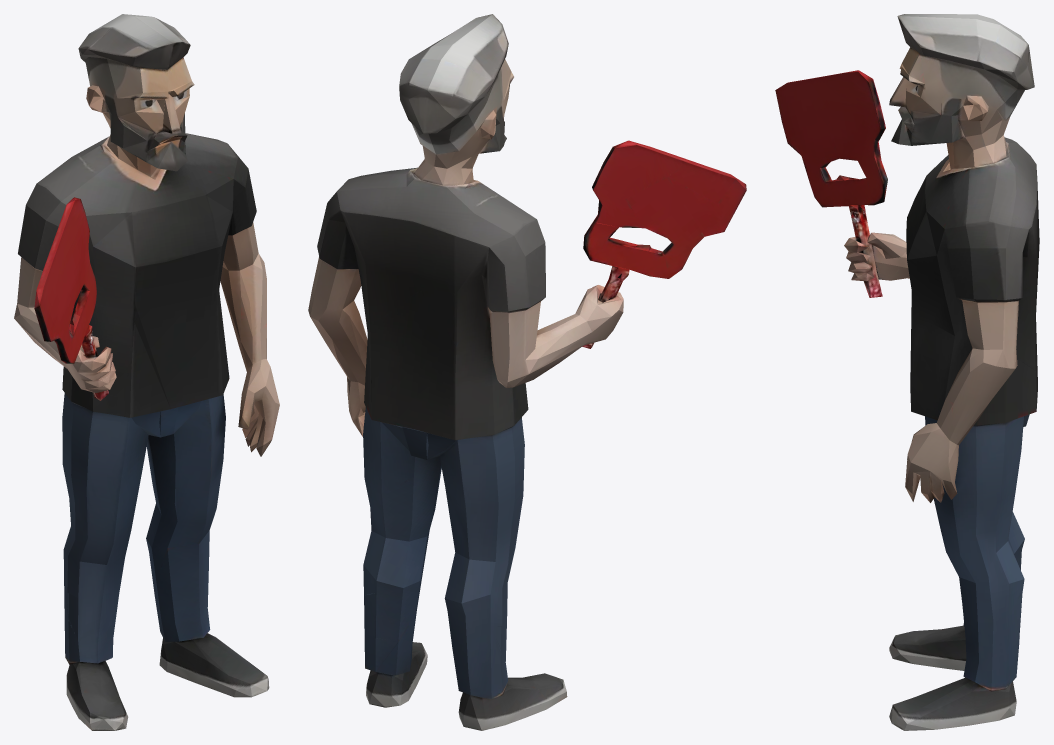
The model's file is wave-man.glb.
3 views of the same model, side by side, from view 1: azimuth 30°, elevation 25°; view 2: azimuth 150°, elevation 25°; view 3: azimuth 270°, elevation 25° (orthographic).
Parts seen in each view (by area): view 1: model; view 2: model; view 3: model.
Part boxes in pixels (left/top/right/bottom): model: left=14, top=14, right=279, bottom=730; model: left=308, top=14, right=746, bottom=730; model: left=775, top=14, right=1039, bottom=730.
Bounding box in the file's own units: 0.9066 × 1.75 × 0.6263.
Materials: 1 (1 with a texture image).
